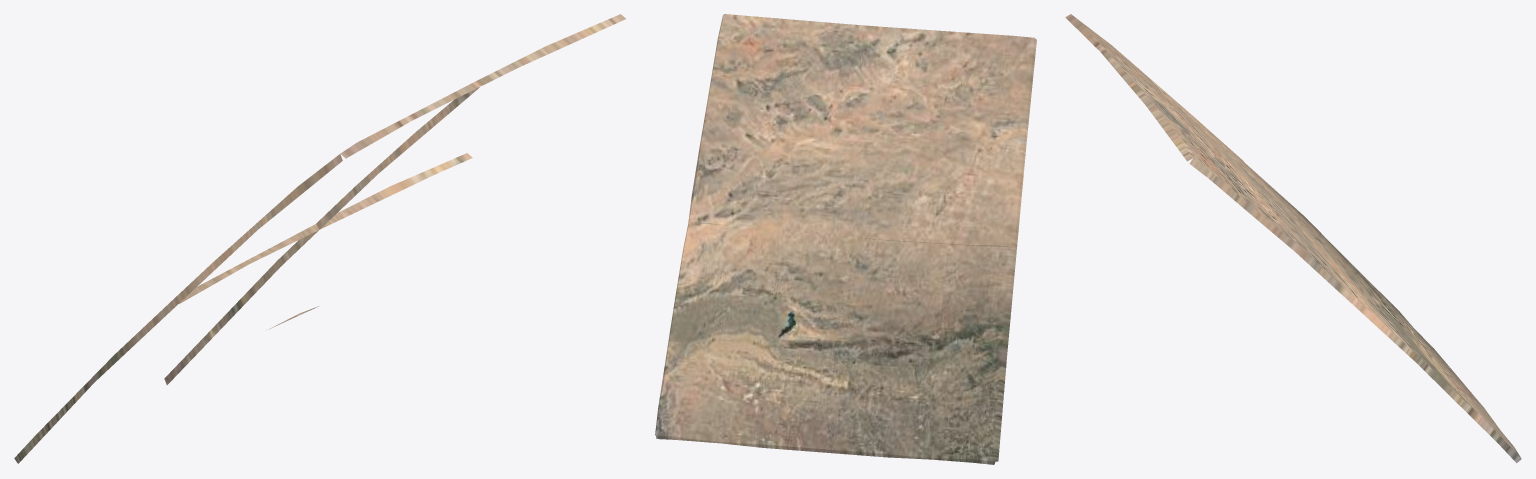
3 renders of one model, left to right at view 1: azimuth 30°, elevation 25°; view 2: azimuth 150°, elevation 25°; view 3: azimuth 270°, elevation 25°, orthographic. The views are drawn at different scales.
Size of the model in its own units: 584969 by 473452 by 560466.
1 material, 1 textured.
